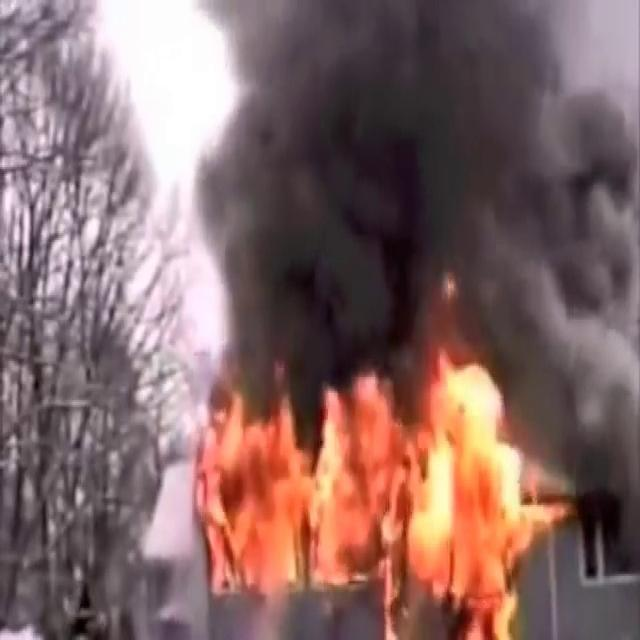Fire: (189, 341, 552, 631)
Smoke: (167, 0, 639, 418)
